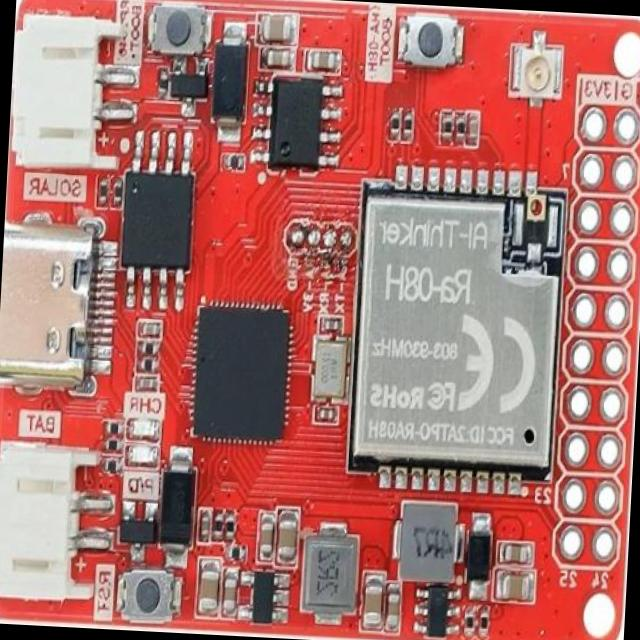IC: (348, 165, 568, 493), (188, 300, 294, 445), (118, 146, 196, 292), (259, 74, 338, 172), (239, 571, 287, 627), (415, 586, 459, 640)
LED: (508, 30, 563, 111), (128, 419, 160, 442), (125, 444, 157, 466)
capacitor: (197, 561, 220, 611), (497, 572, 532, 602), (363, 576, 384, 626), (260, 16, 296, 43), (278, 512, 298, 560), (258, 46, 294, 70), (384, 584, 401, 630), (221, 569, 238, 614), (258, 516, 274, 559), (501, 543, 531, 563), (311, 52, 340, 72), (468, 118, 479, 142), (200, 514, 210, 540), (138, 377, 156, 390), (142, 322, 157, 336), (324, 318, 338, 332), (318, 410, 335, 420)
connector: (0, 223, 110, 390), (8, 15, 126, 170), (0, 444, 103, 607)
diode: (207, 40, 251, 126), (160, 458, 195, 553), (468, 514, 492, 598)
resistor: (302, 524, 359, 622), (395, 500, 463, 582), (464, 610, 474, 640), (224, 516, 237, 539), (225, 153, 242, 170), (478, 614, 489, 637), (443, 115, 454, 137), (140, 342, 157, 356), (213, 514, 222, 538), (112, 182, 121, 206), (107, 422, 121, 437), (99, 181, 108, 203), (158, 73, 167, 95), (141, 358, 155, 372), (391, 114, 401, 133), (456, 114, 464, 137), (403, 116, 412, 136), (227, 548, 241, 559), (106, 436, 117, 449), (106, 458, 116, 472)
transistor: (117, 503, 156, 562), (170, 63, 206, 111)
